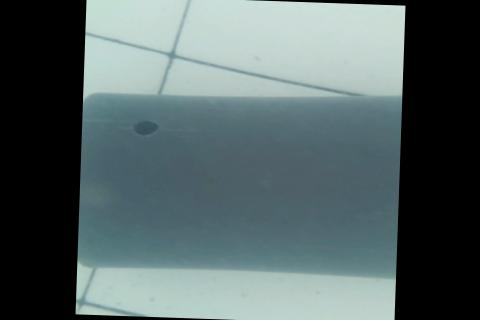kebocoran: (130, 118, 159, 138)
